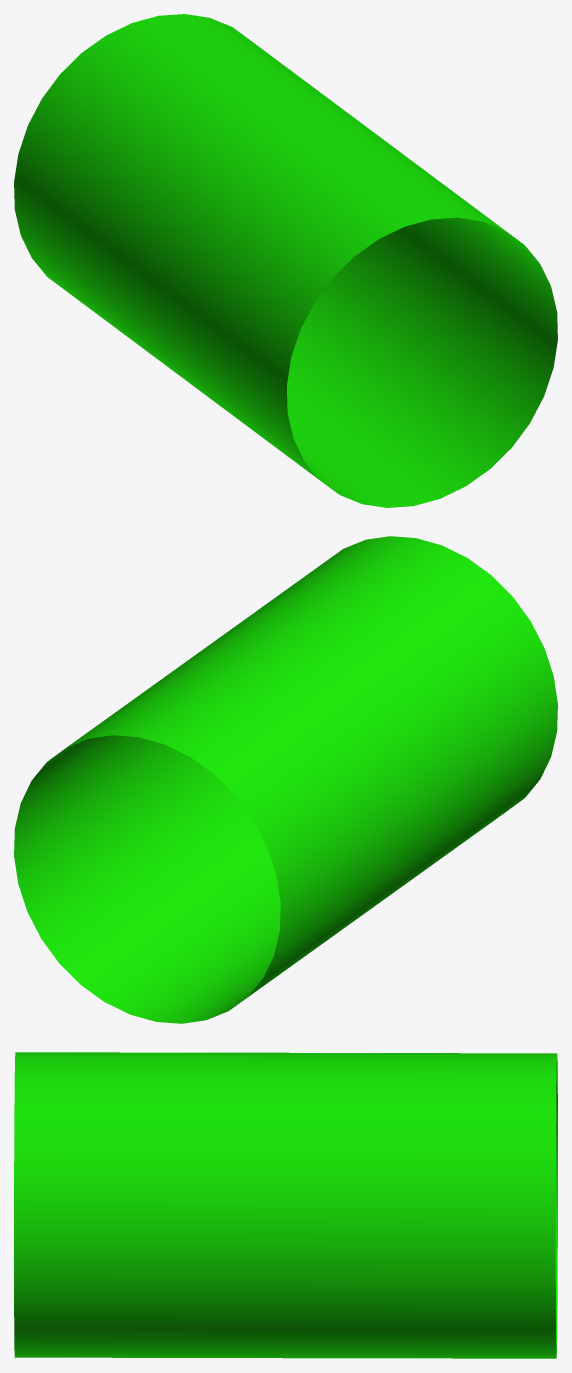
File: conexionV1C1.fbx
3 views of the same model, one above another, from view 1: azimuth 30°, elevation 25°; view 2: azimuth 150°, elevation 25°; view 3: azimuth 270°, elevation 25° (orthographic).
Parts seen in each view (by area): view 1: conexionV1C1; view 2: conexionV1C1; view 3: conexionV1C1.
Part boxes in pixels (box(x1,y1,x2,y2)): conexionV1C1: box(14, 14, 557, 507); conexionV1C1: box(14, 536, 557, 1023); conexionV1C1: box(14, 1052, 557, 1358).
Size of the model in its own units: 113 by 112 by 199.
